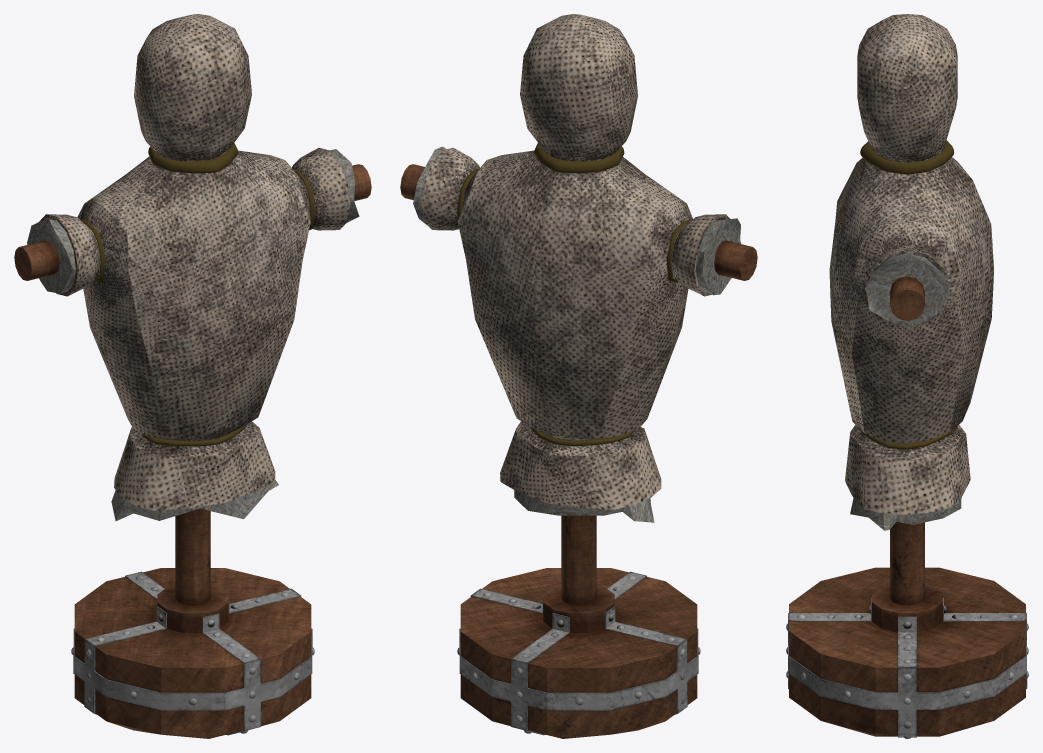
File: Dummy.fbx
3 renders of one model, left to right at view 1: azimuth 30°, elevation 25°; view 2: azimuth 150°, elevation 25°; view 3: azimuth 270°, elevation 25°, orthographic.
Parts seen in each view (by area): view 1: Object_4; view 2: Object_4; view 3: Object_4.
Boxes of the visible parts, bbox=[...] form: Object_4: bbox=[14, 14, 371, 738]; Object_4: bbox=[400, 14, 757, 738]; Object_4: bbox=[786, 14, 1028, 738].
Bounding box in the file's own units: 224 × 442 × 139.
